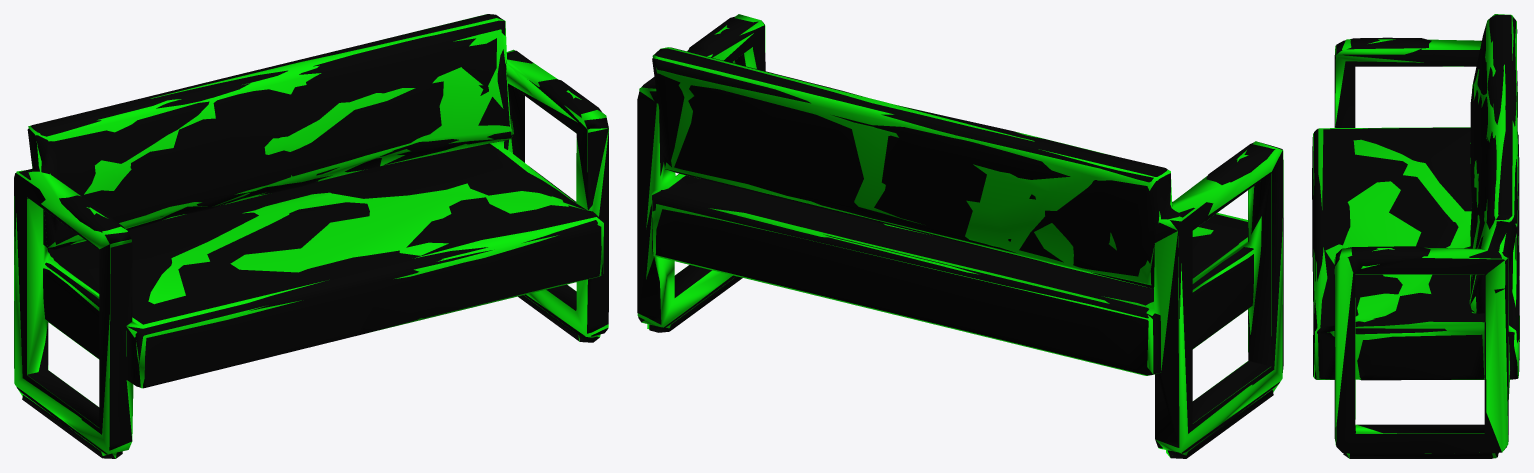
Rendered from wbready-waitbench.fbx.
The picture shows the model from 3 angles, left to right: view 1: azimuth 30°, elevation 25°; view 2: azimuth 150°, elevation 25°; view 3: azimuth 270°, elevation 25°; orthographic projection. The views are drawn at different scales.
Visible parts, largest first — view 1: LOD0_LOD0, UTM_firegeo; view 2: LOD0_LOD0, UTM_firegeo; view 3: LOD0_LOD0, UTM_firegeo.
Boxes of the visible parts, left/top/right/bottom form: LOD0_LOD0: left=14, top=14, right=608, bottom=458; UTM_firegeo: left=14, top=14, right=608, bottom=458; LOD0_LOD0: left=637, top=16, right=1283, bottom=458; UTM_firegeo: left=637, top=14, right=1283, bottom=457; LOD0_LOD0: left=1312, top=15, right=1519, bottom=458; UTM_firegeo: left=1313, top=14, right=1519, bottom=458.
Size of what is drawn, in the model's own units: 278 by 140 by 111.
